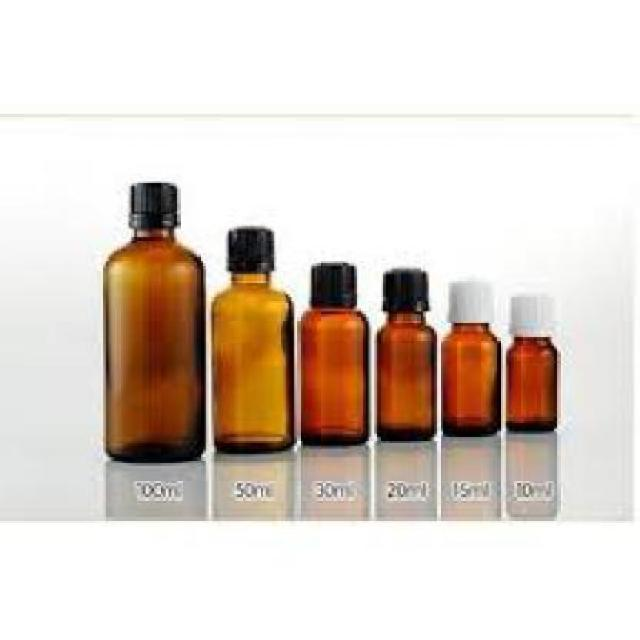kaca: (100, 223, 203, 463), (210, 272, 292, 457), (292, 303, 370, 446), (372, 309, 436, 440), (434, 323, 497, 440), (503, 336, 554, 436)
